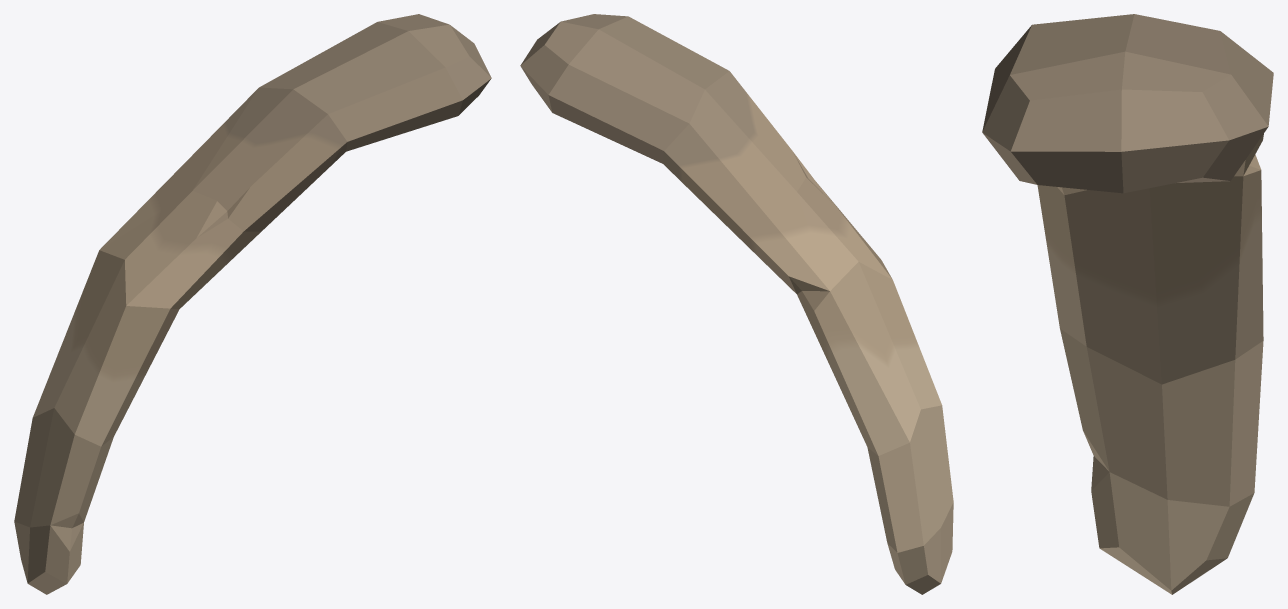
The model's file is bog_bone_rib.gltf.
The picture shows the model from 3 angles, left to right: view 1: azimuth 30°, elevation 25°; view 2: azimuth 150°, elevation 25°; view 3: azimuth 270°, elevation 25°; orthographic projection. The views are drawn at different scales.
Visible parts, largest first — view 1: bog_bone_rib; view 2: bog_bone_rib; view 3: bog_bone_rib.
Part boxes in pixels (x1,y1,x2,y2): bog_bone_rib: (14,14,491,594); bog_bone_rib: (520,14,953,594); bog_bone_rib: (982,14,1273,594).
Bounding box in the file's own units: 4.6 × 4.97 × 1.58.
1 material, 1 textured.
